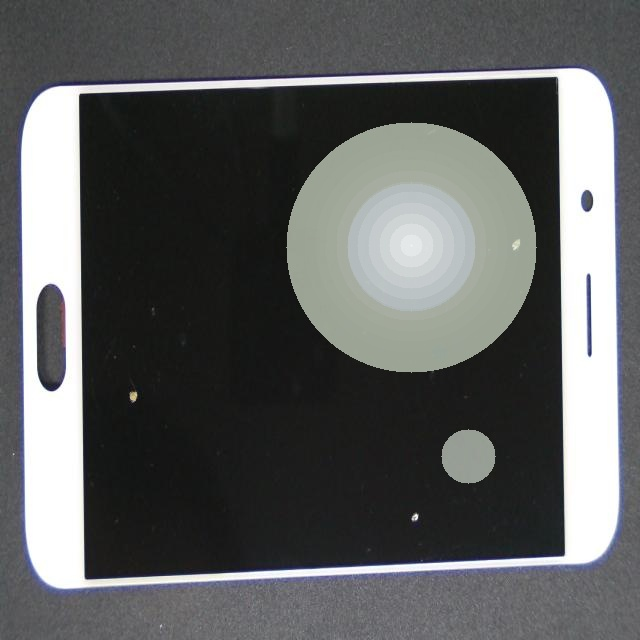stain: (223, 232, 609, 640), (244, 102, 640, 392), (68, 171, 185, 588)
